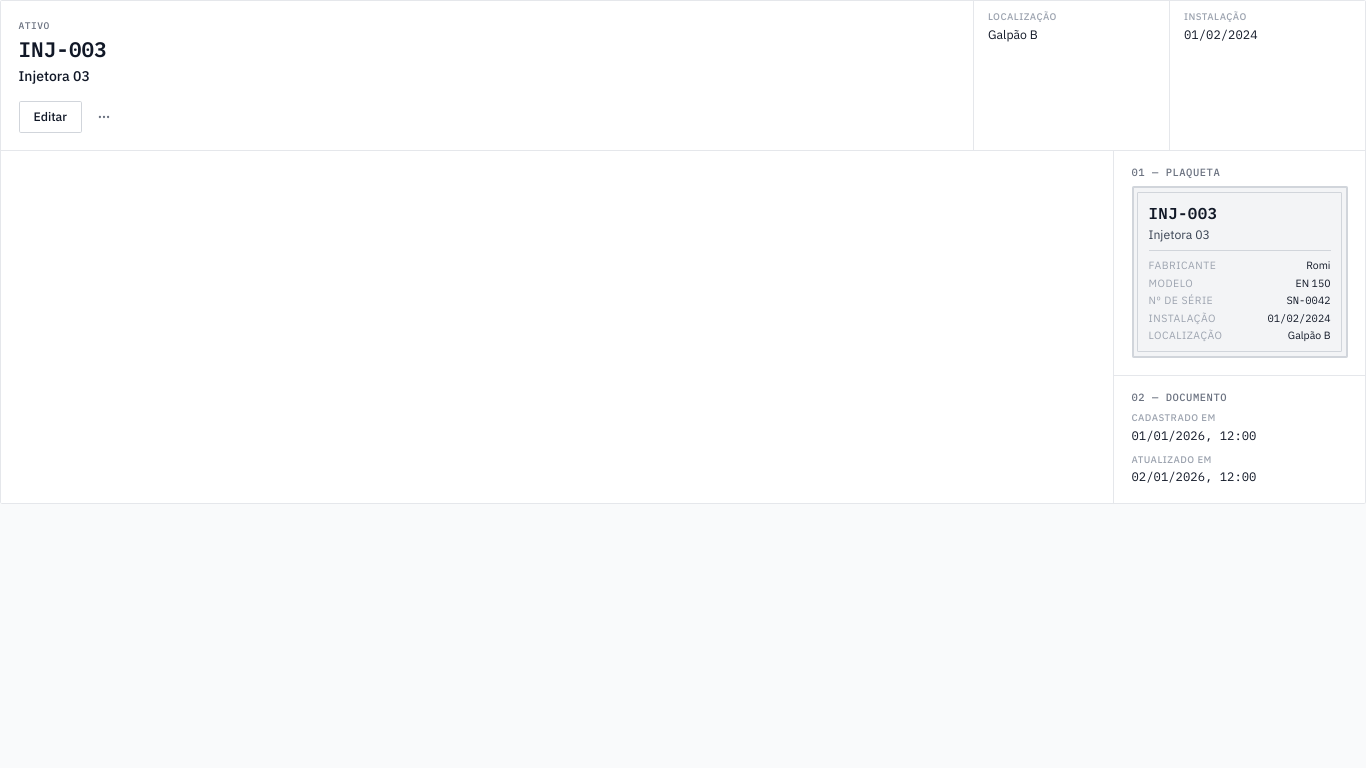
AssetViewPage › deve pedir confirmação antes de remover
expect the heading "Injetora 03" is shown: met, box [18,67,90,85]
Step 1. Click the button named "Mais ações" → (104, 117), box [89,101,119,133]
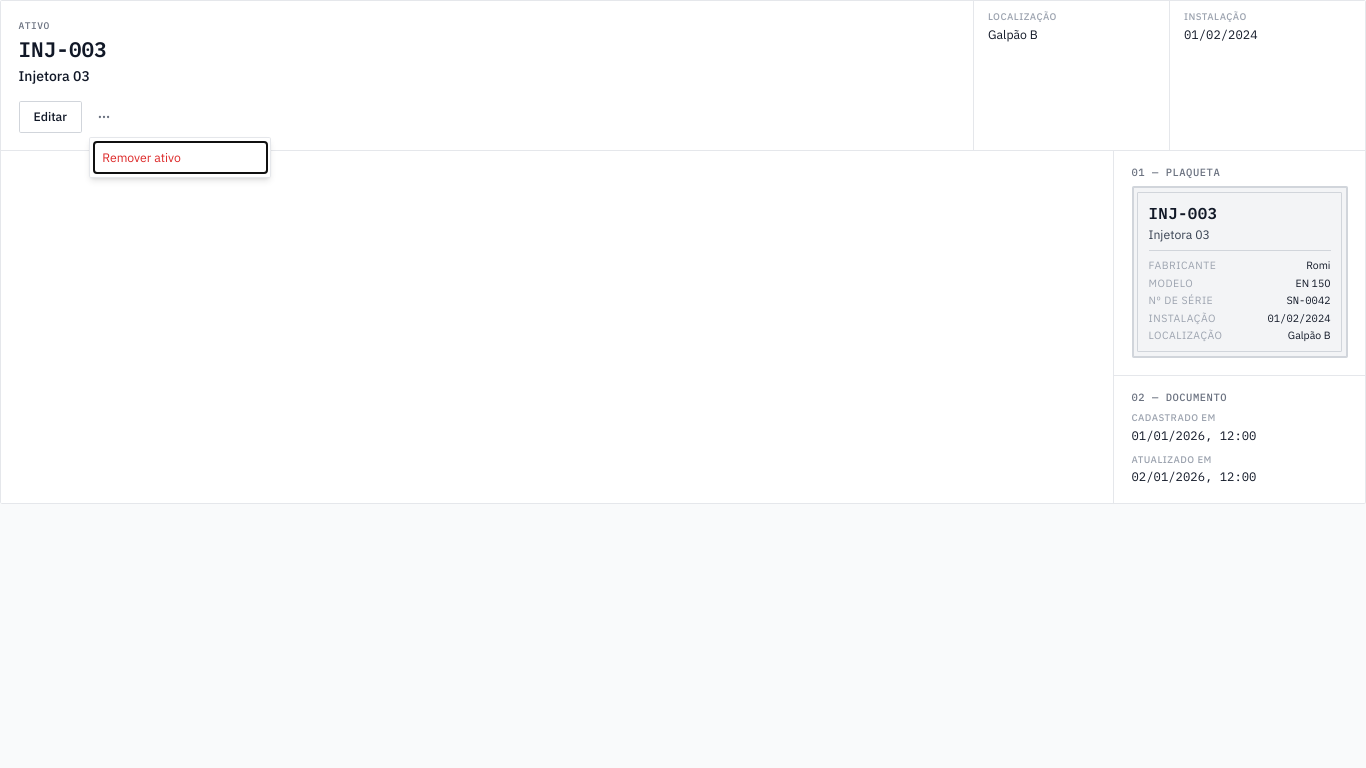
Step 2. Click the button "Remover ativo" → (180, 157), box [94,142,266,173]
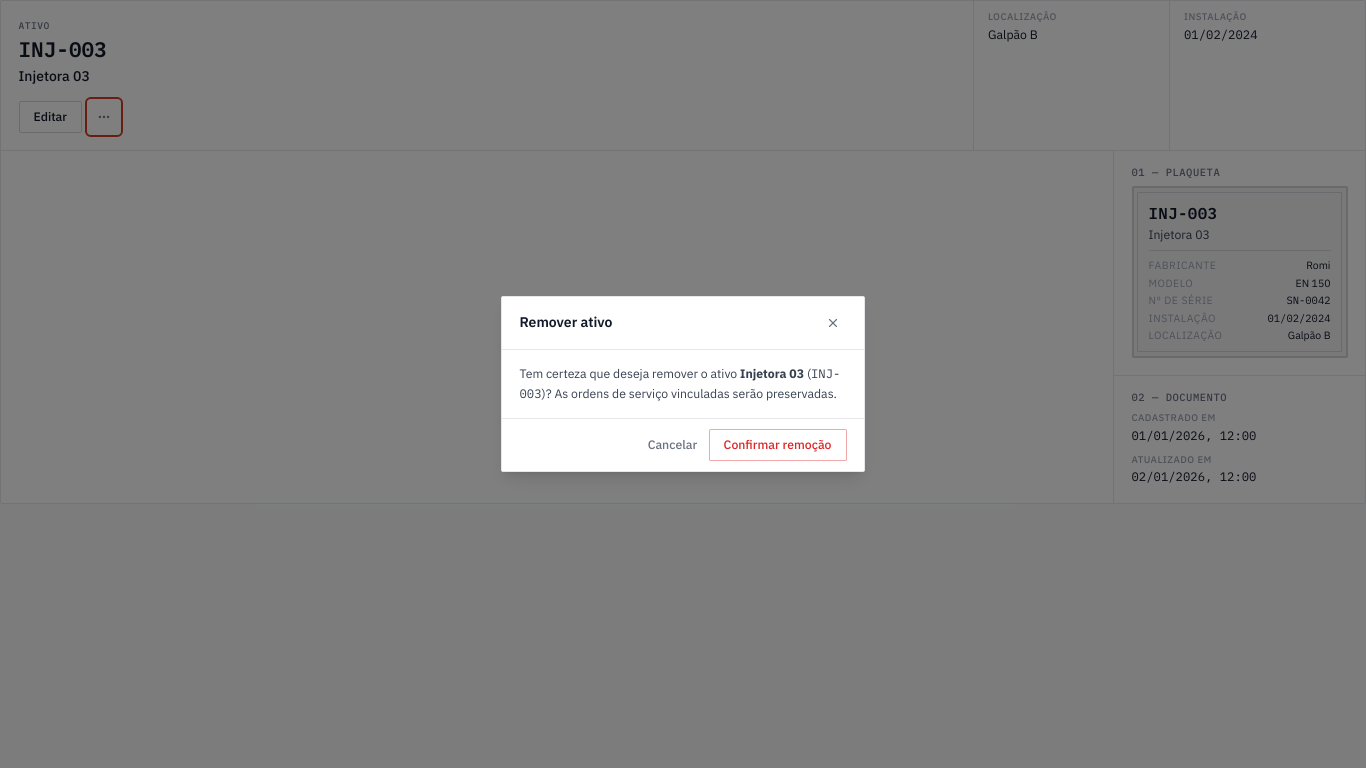
expect the button "Editar" is shown: met, box [18,101,82,133]
expect the button "Confirmar remoção" is enabled: met, box [709,429,846,461]
